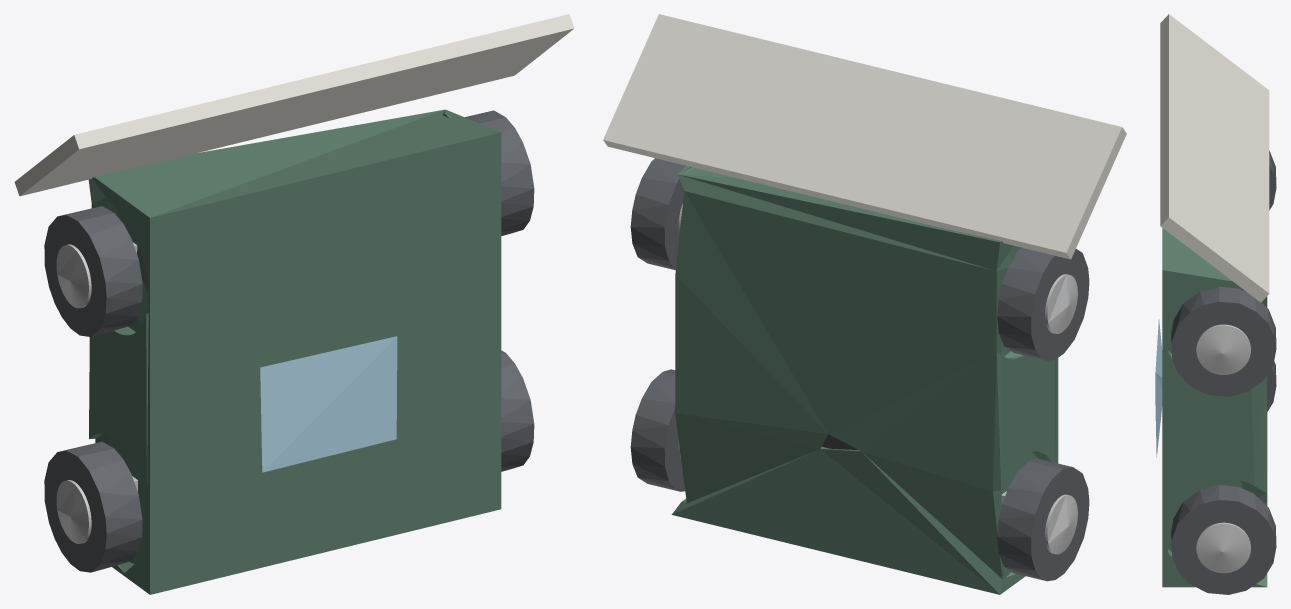
The model's file is kharuul.glb.
The picture shows the model from 3 angles, left to right: view 1: azimuth 30°, elevation 25°; view 2: azimuth 150°, elevation 25°; view 3: azimuth 270°, elevation 25°; orthographic projection. The views are drawn at different scales.
Parts seen in each view (by area): view 1: chassis, scoop, label, wheel_r1, wheel_r0, wheel_l1, wheel_l0, dt_hub_wheel_r1, dt_hub_wheel_r0; view 2: chassis, scoop, wheel_r0, wheel_r1, wheel_l0, wheel_l1, dt_hub_wheel_r0, dt_hub_wheel_r1; view 3: scoop, chassis, wheel_l0, wheel_l1, dt_hub_wheel_l0, dt_hub_wheel_l1, label, wheel_r0, wheel_r1.
Boxes of the visible parts, x1,y1,x2,y2 form: chassis: [88, 109, 501, 594]; scoop: [14, 14, 574, 196]; label: [260, 336, 397, 472]; wheel_r1: [44, 206, 142, 336]; wheel_r0: [44, 441, 142, 572]; wheel_l1: [465, 110, 534, 235]; wheel_l0: [501, 350, 534, 471]; dt_hub_wheel_r1: [56, 244, 91, 308]; dt_hub_wheel_r0: [56, 480, 91, 543]; chassis: [671, 165, 1058, 594]; scoop: [603, 14, 1126, 259]; wheel_r0: [997, 458, 1089, 581]; wheel_r1: [997, 247, 1089, 360]; wheel_l0: [630, 369, 685, 491]; wheel_l1: [630, 158, 685, 270]; dt_hub_wheel_r0: [1045, 494, 1077, 554]; dt_hub_wheel_r1: [1045, 274, 1077, 333]; scoop: [1160, 14, 1269, 302]; chassis: [1162, 228, 1267, 587]; wheel_l0: [1171, 485, 1276, 594]; wheel_l1: [1171, 286, 1276, 396]; dt_hub_wheel_l0: [1196, 522, 1250, 573]; dt_hub_wheel_l1: [1196, 324, 1250, 374]; label: [1155, 319, 1162, 457]; wheel_r0: [1267, 361, 1276, 411]; wheel_r1: [1269, 150, 1276, 210].
Size of the model in its own units: 110 by 101 by 27.68.
